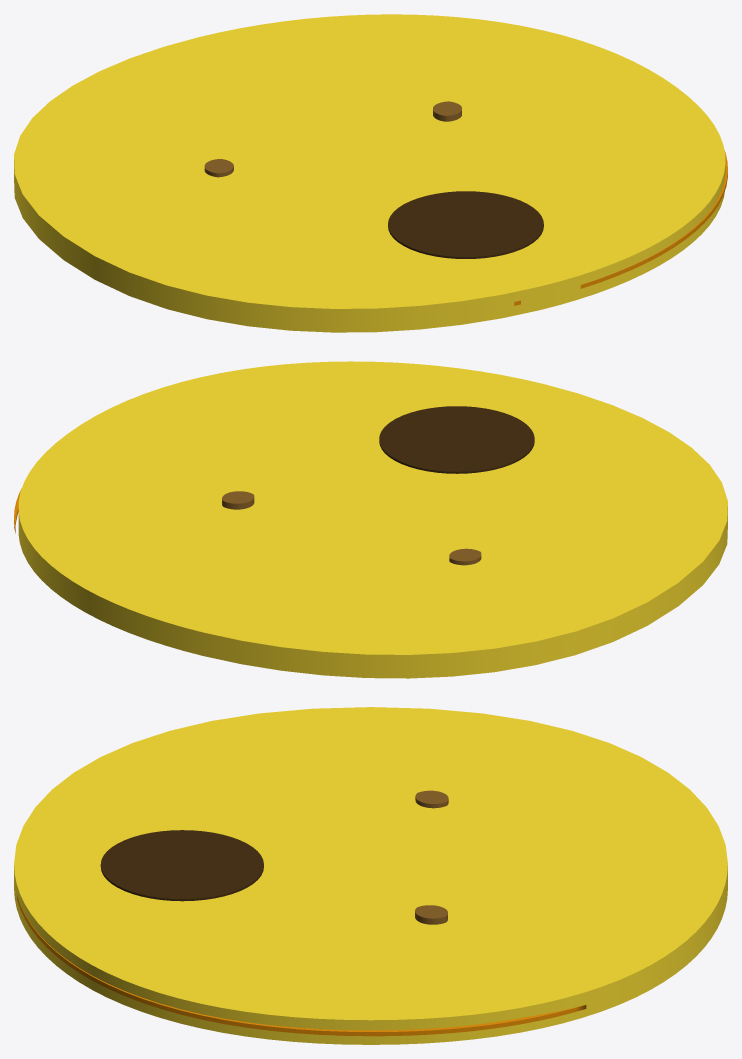
Rendered from emoji_u1f62f.glb.
3 views of the same model, one above another, from view 1: azimuth 30°, elevation 25°; view 2: azimuth 150°, elevation 25°; view 3: azimuth 270°, elevation 25° (orthographic). The views are drawn at different scales.
Parts seen in each view (by area): view 1: emoji_u1f62f; view 2: emoji_u1f62f; view 3: emoji_u1f62f.
Part boxes in pixels (box(x1,y1,x2,y2)): emoji_u1f62f: box(14, 14, 727, 332); emoji_u1f62f: box(14, 361, 727, 678); emoji_u1f62f: box(14, 707, 727, 1044).
Bounding box in the file's own units: 0.0327 × 0.0018 × 0.0314.
